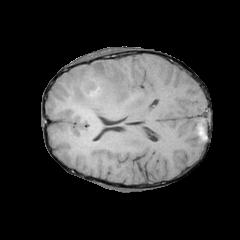glioma: (67, 61, 130, 116)
